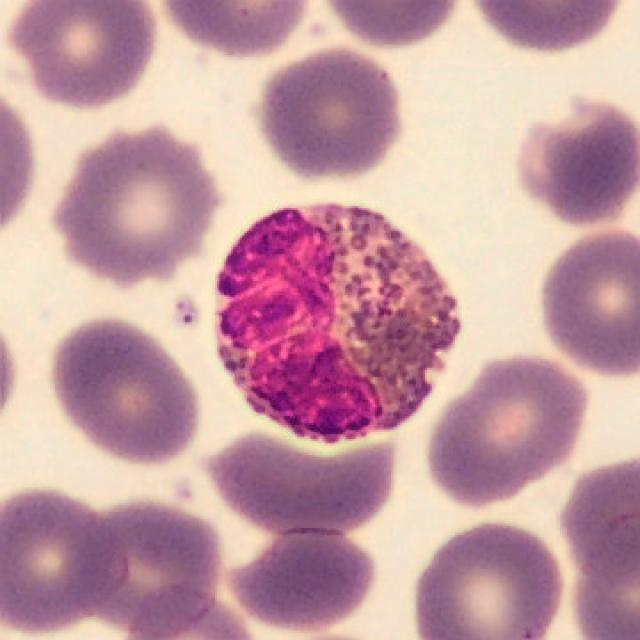Eosinofilo: (213, 206, 462, 441)
